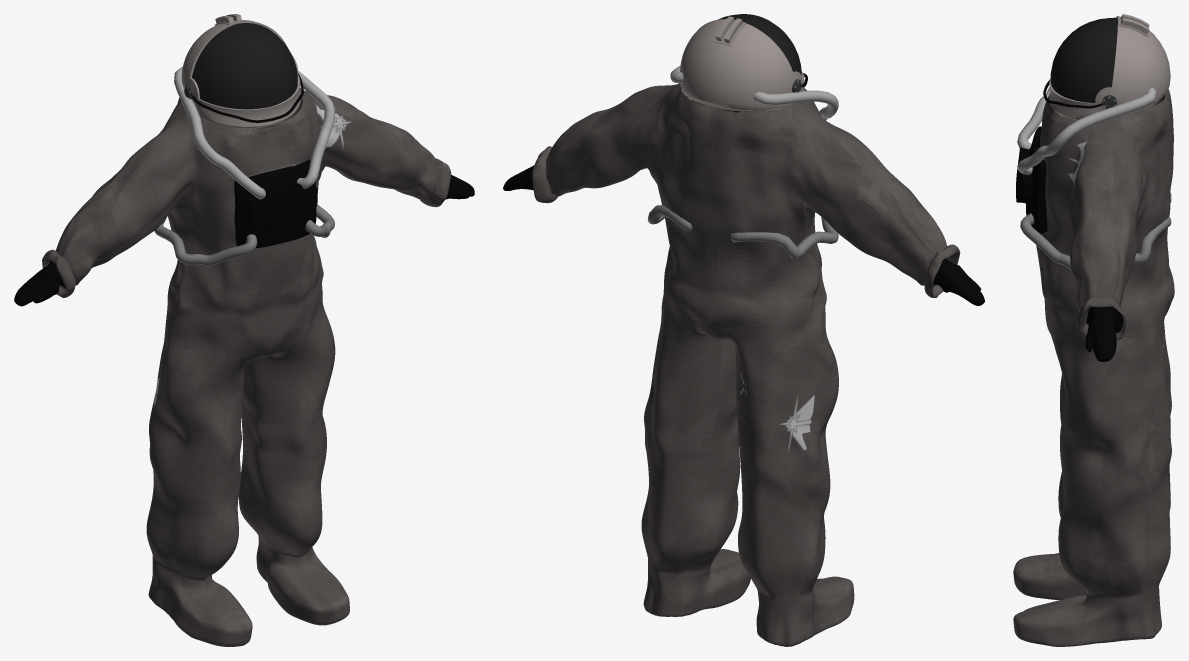
Rendered from spacesuit.fbx.
The picture shows the model from 3 angles, left to right: view 1: azimuth 30°, elevation 25°; view 2: azimuth 150°, elevation 25°; view 3: azimuth 270°, elevation 25°; orthographic projection. The views are drawn at different scales.
Parts seen in each view (by area): view 1: Sphere.001, Sphere, BézierCurve.001, BézierCurve.002; view 2: Sphere.001, Sphere, BézierCurve.002, BézierCurve.001; view 3: Sphere.001, Sphere, BézierCurve.001, BézierCurve.002.
Part boxes in pixels (<box>): Sphere.001: <box>14,88,474,646</box>; Sphere: <box>181,14,301,128</box>; BézierCurve.001: <box>174,66,334,199</box>; BézierCurve.002: <box>154,204,334,265</box>; Sphere.001: <box>503,83,984,646</box>; Sphere: <box>680,14,805,111</box>; BézierCurve.002: <box>647,205,838,258</box>; BézierCurve.001: <box>670,65,838,120</box>; Sphere.001: <box>1013,89,1174,646</box>; Sphere: <box>1049,14,1170,120</box>; BézierCurve.001: <box>1017,86,1156,174</box>; BézierCurve.002: <box>1020,192,1171,269</box>.
Size of the model in its own units: 166 by 202 by 49.51.
